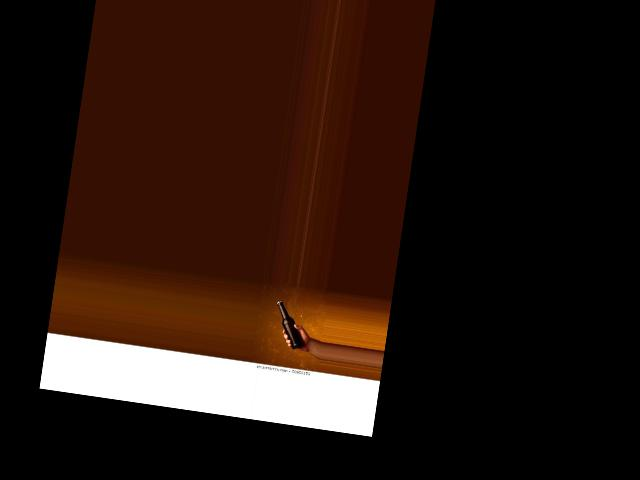beer: (270, 300, 311, 350)
